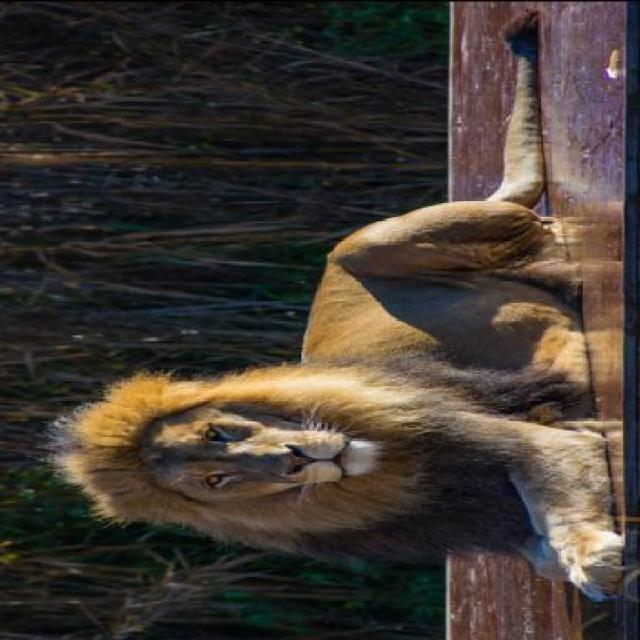Lion: (21, 14, 638, 601)
